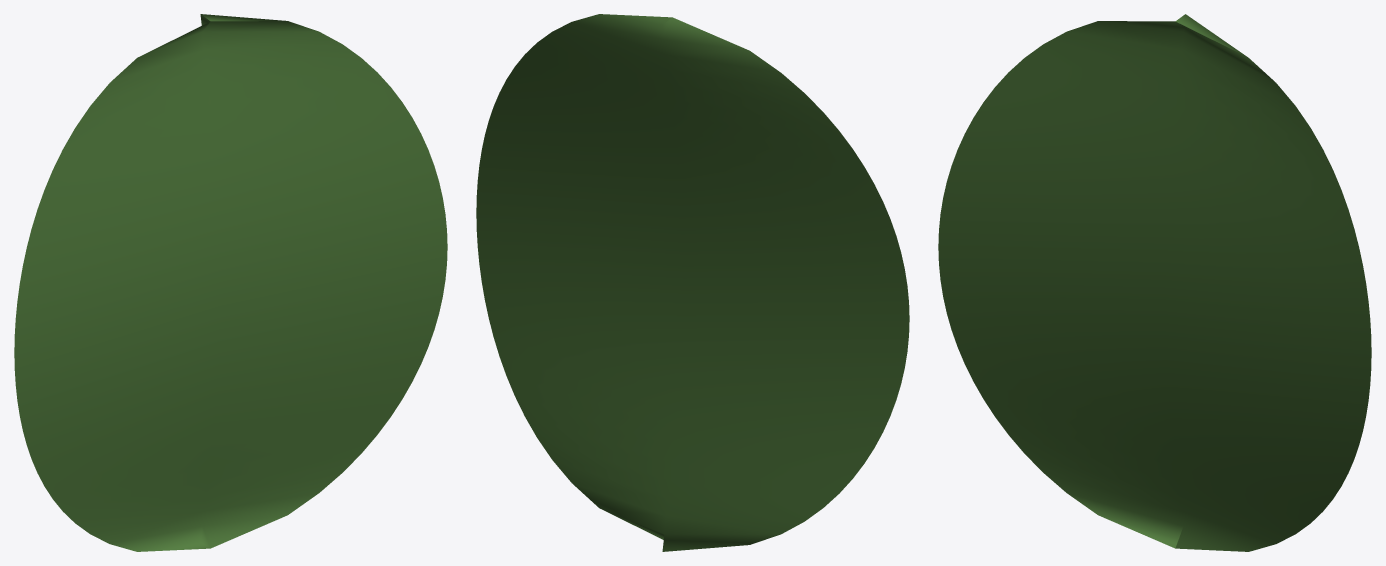
Rendered from leaf-round.glb.
The picture shows the model from 3 angles, left to right: view 1: azimuth 30°, elevation 25°; view 2: azimuth 150°, elevation 25°; view 3: azimuth 330°, elevation 25°; orthographic projection.
Visible parts, largest first — view 1: tint-surface; view 2: tint-surface; view 3: tint-surface.
Boxes of the visible parts, x1=… form: tint-surface: x1=14, y1=14, x2=447, y2=551; tint-surface: x1=476, y1=14, x2=909, y2=551; tint-surface: x1=938, y1=14, x2=1371, y2=551.
Size of the model in its own units: 0.86 by 1 by 0.105.
